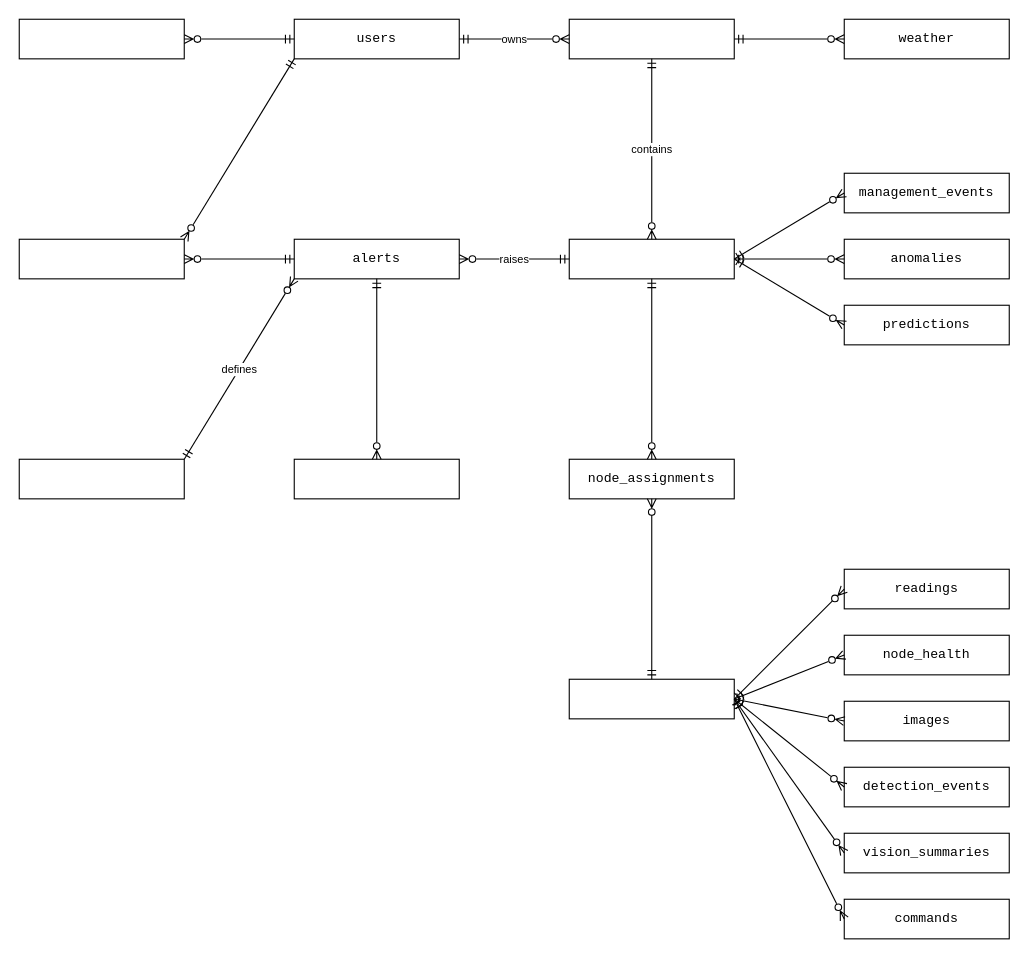
This 1029x958 diagram has some shape labels left out. Each missing label, with the box of its shape:
alert_events: (293, 458, 459, 499)
alert_rules: (18, 458, 184, 499)
apiaries: (568, 18, 734, 59)
hives: (568, 238, 734, 279)
nodes: (568, 678, 734, 719)
notifications: (18, 238, 184, 279)
refresh_tokens: (18, 18, 184, 59)
